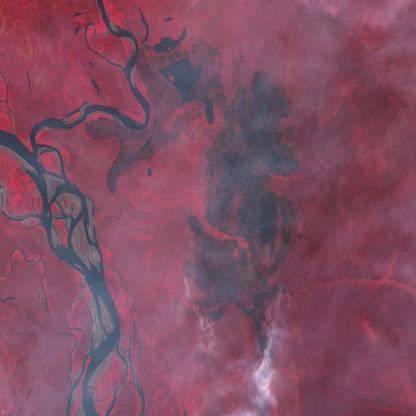fire: (176, 252, 294, 373)
